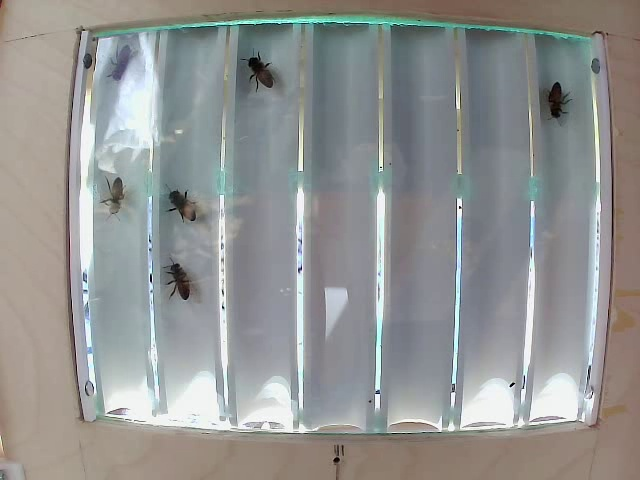bee: (157, 252, 202, 306), (162, 176, 205, 219), (101, 174, 133, 215), (242, 55, 273, 85)
